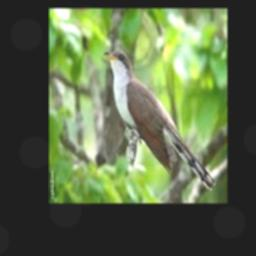Cuckoo: (104, 50, 216, 191)
